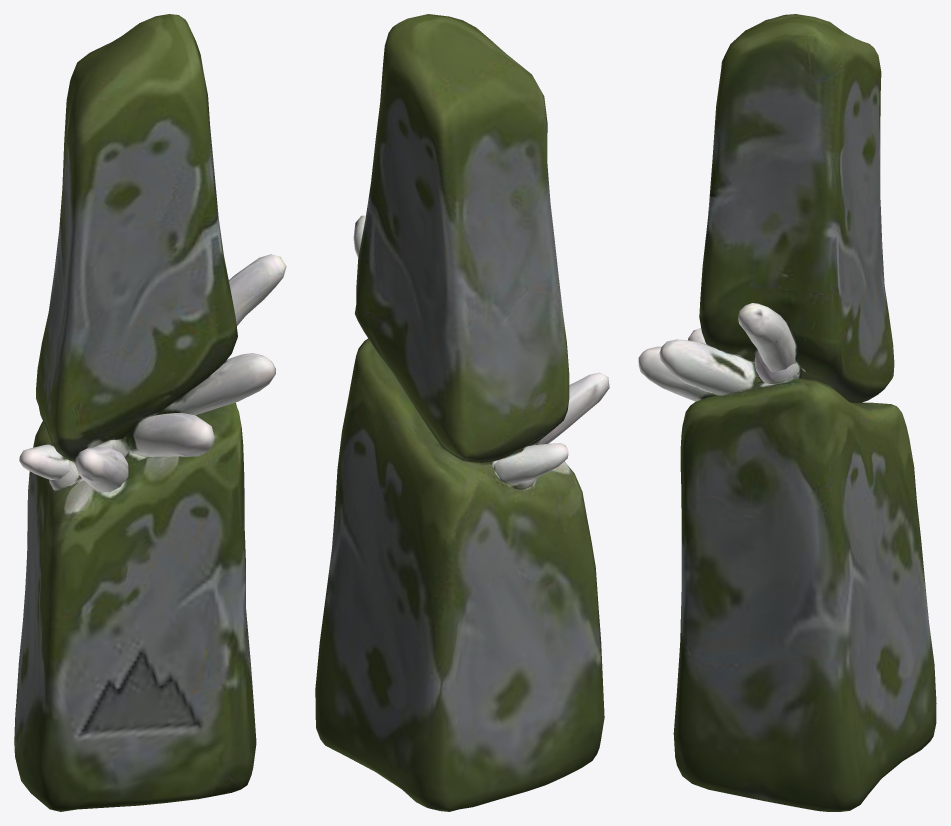
Rendered from el_menir.glb.
3 views of the same model, side by side, from view 1: azimuth 30°, elevation 25°; view 2: azimuth 150°, elevation 25°; view 3: azimuth 270°, elevation 25° (orthographic). The views are drawn at different scales.
Parts seen in each view (by area): view 1: Mesh_0.002; view 2: Mesh_0.002; view 3: Mesh_0.002.
Boxes of the visible parts, x1,y1,x2,y2 form: Mesh_0.002: (14, 14, 286, 811); Mesh_0.002: (315, 14, 609, 811); Mesh_0.002: (638, 14, 936, 811).
Bounding box in the file's own units: 0.1586 × 0.4548 × 0.1614.
Materials: 1 (1 with a texture image).
